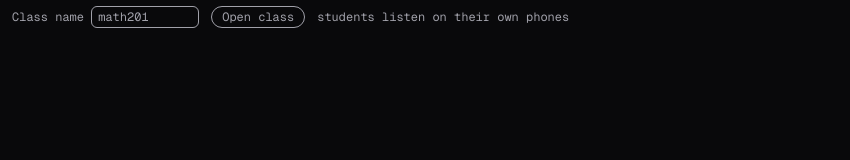
Test: class panel (camera device) › shows why a class could not be opened
Replace the text in the field labelled "Class name" with "Math 201" at [145, 17], box [91, 6, 199, 28]
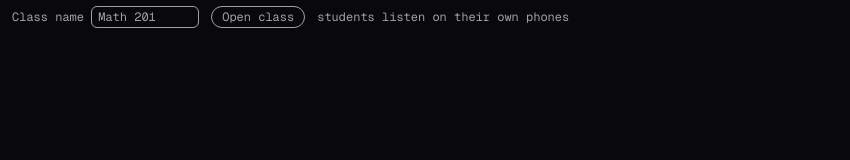
Click the button "Open class" at [258, 17], box [211, 6, 305, 28]
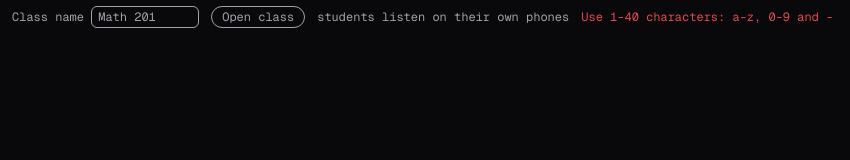
expect the message shows "a-z, 0-9": met, box [581, 9, 833, 25]
